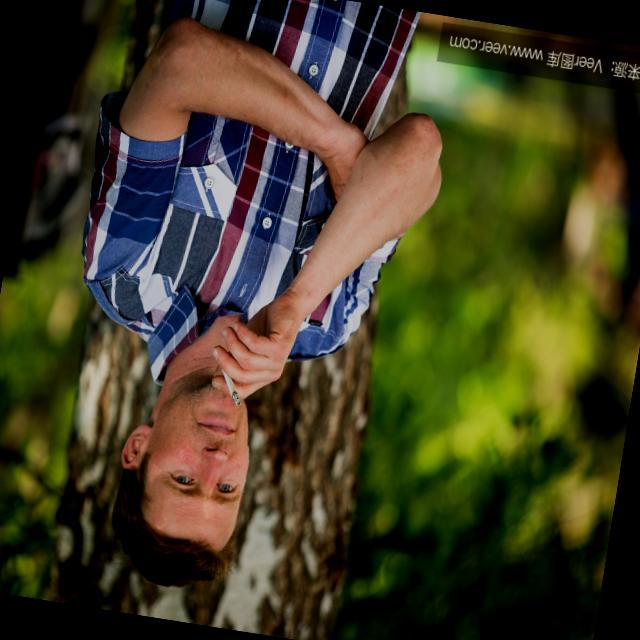cigarette: (209, 352, 247, 410)
